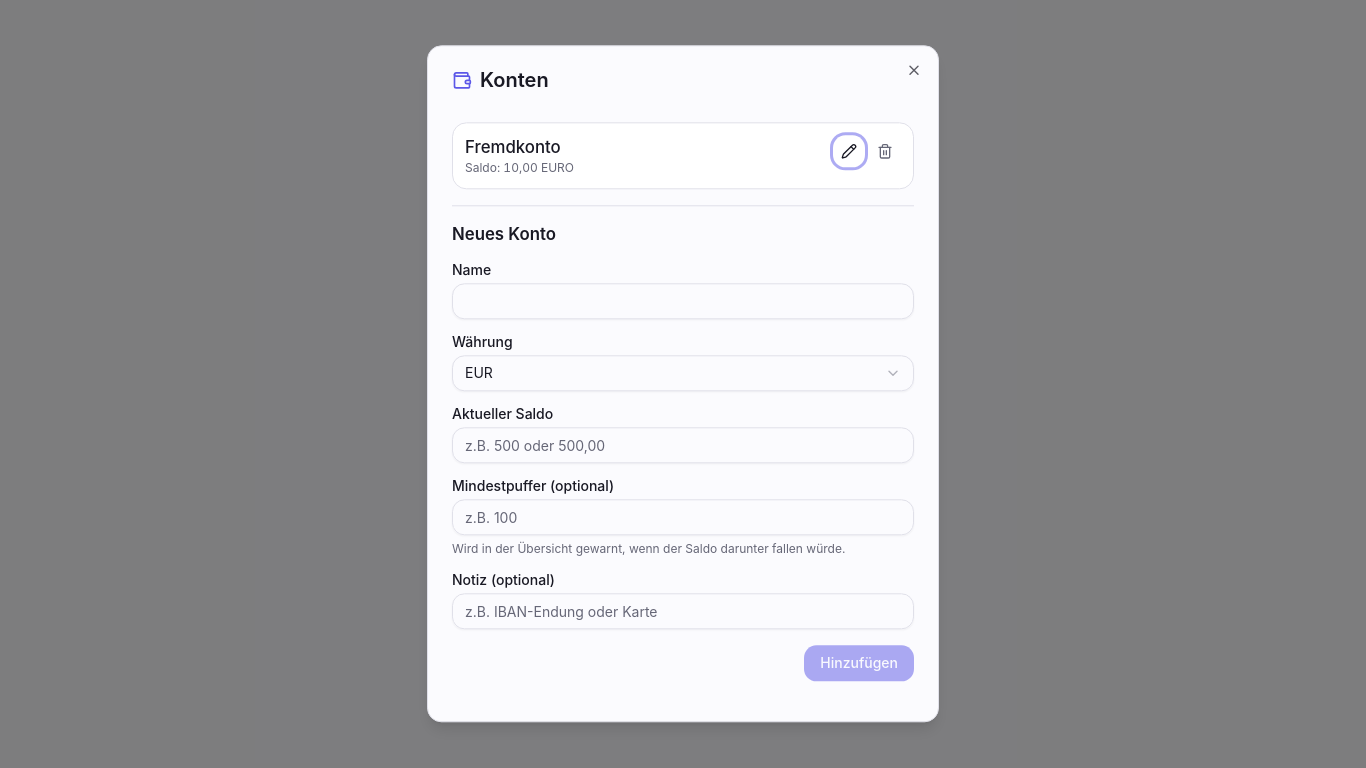
Test: AccountsDialog › zeigt feldnahe Fehlermeldung bei unbekannter Waehrung
What coordinates should you click on to do the following:
click the button named "Konto Fremdkonto bearbeiten"
I would click on:
 (849, 151)
Its box is x1=833 y1=135 x2=865 y2=167.
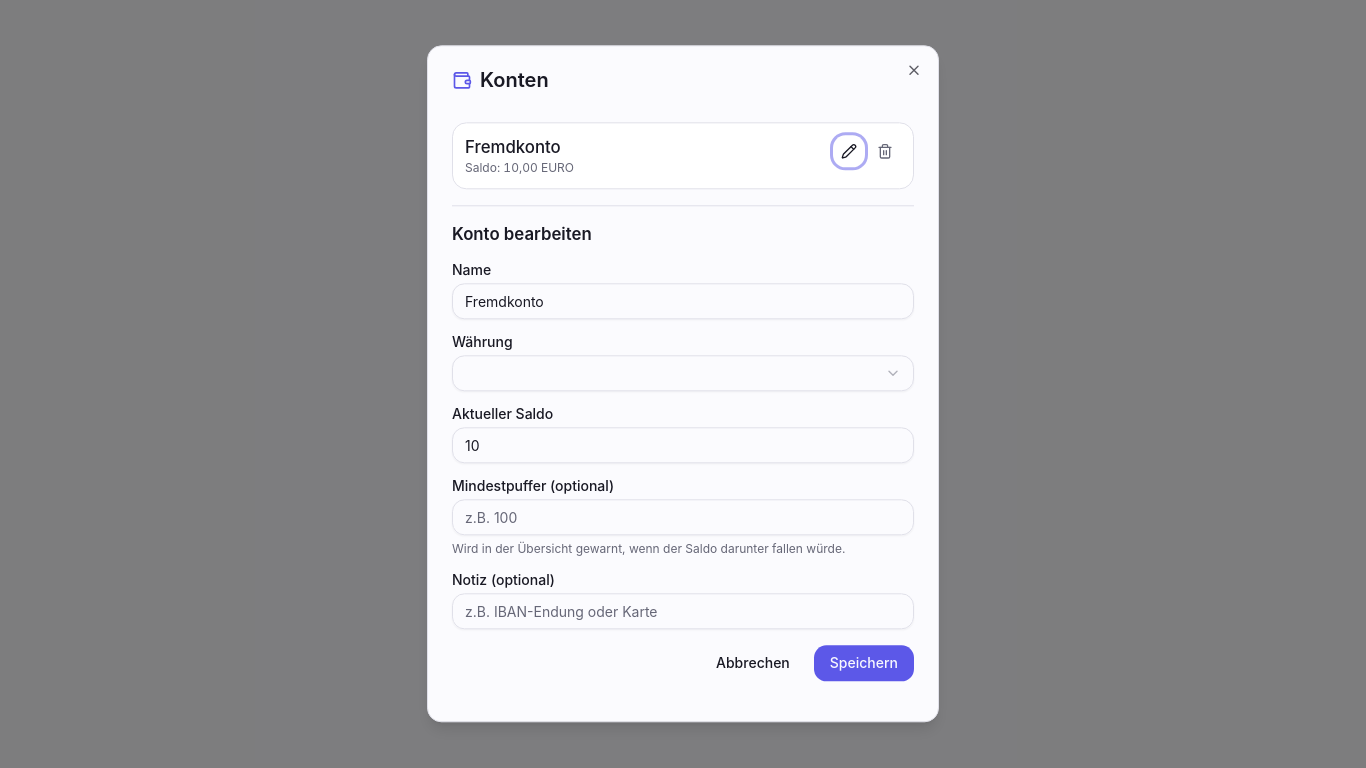
What coordinates should you click on to do the following:
click the button "Speichern"
I would click on:
 (864, 664)
Its box is x1=814 y1=646 x2=914 y2=682.
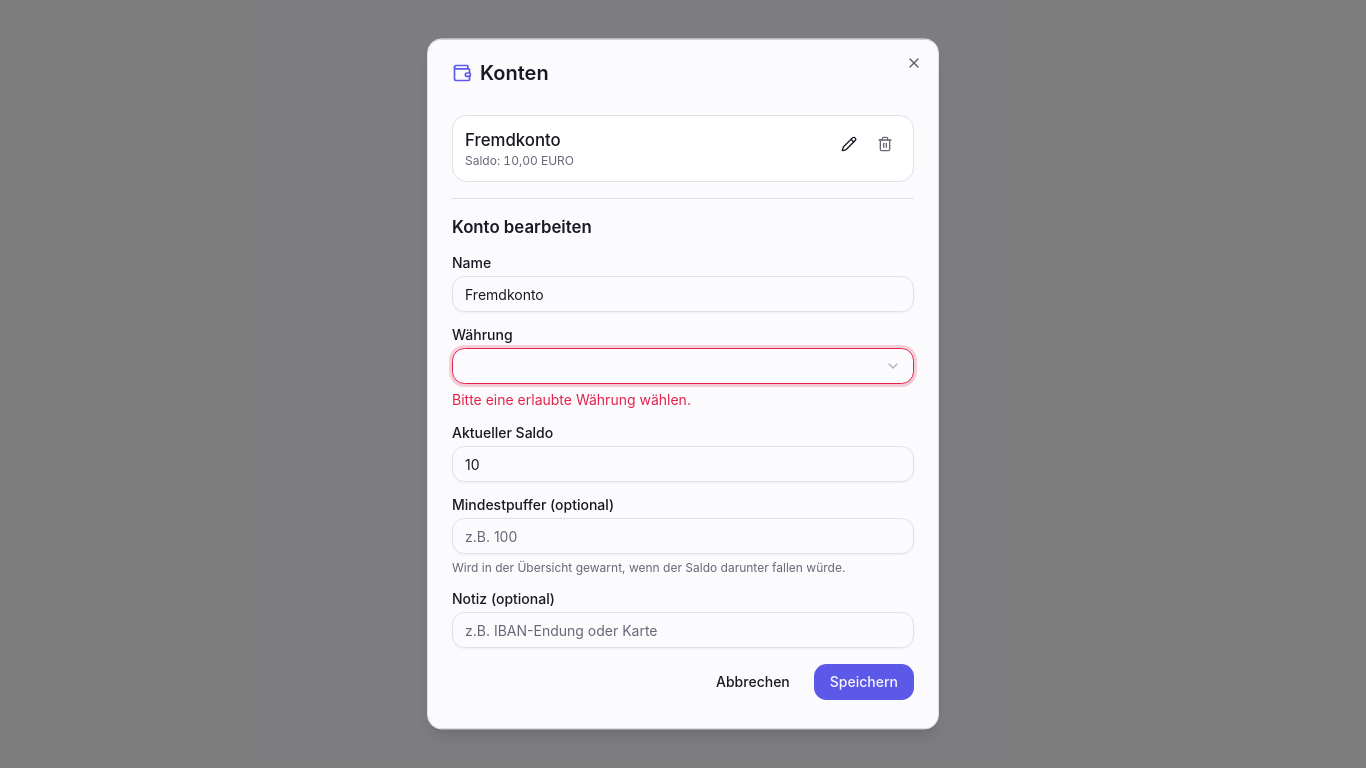
Expected: the text "Bitte eine erlaubte Währung wählen." is shown, x1=452 y1=392 x2=691 y2=409
